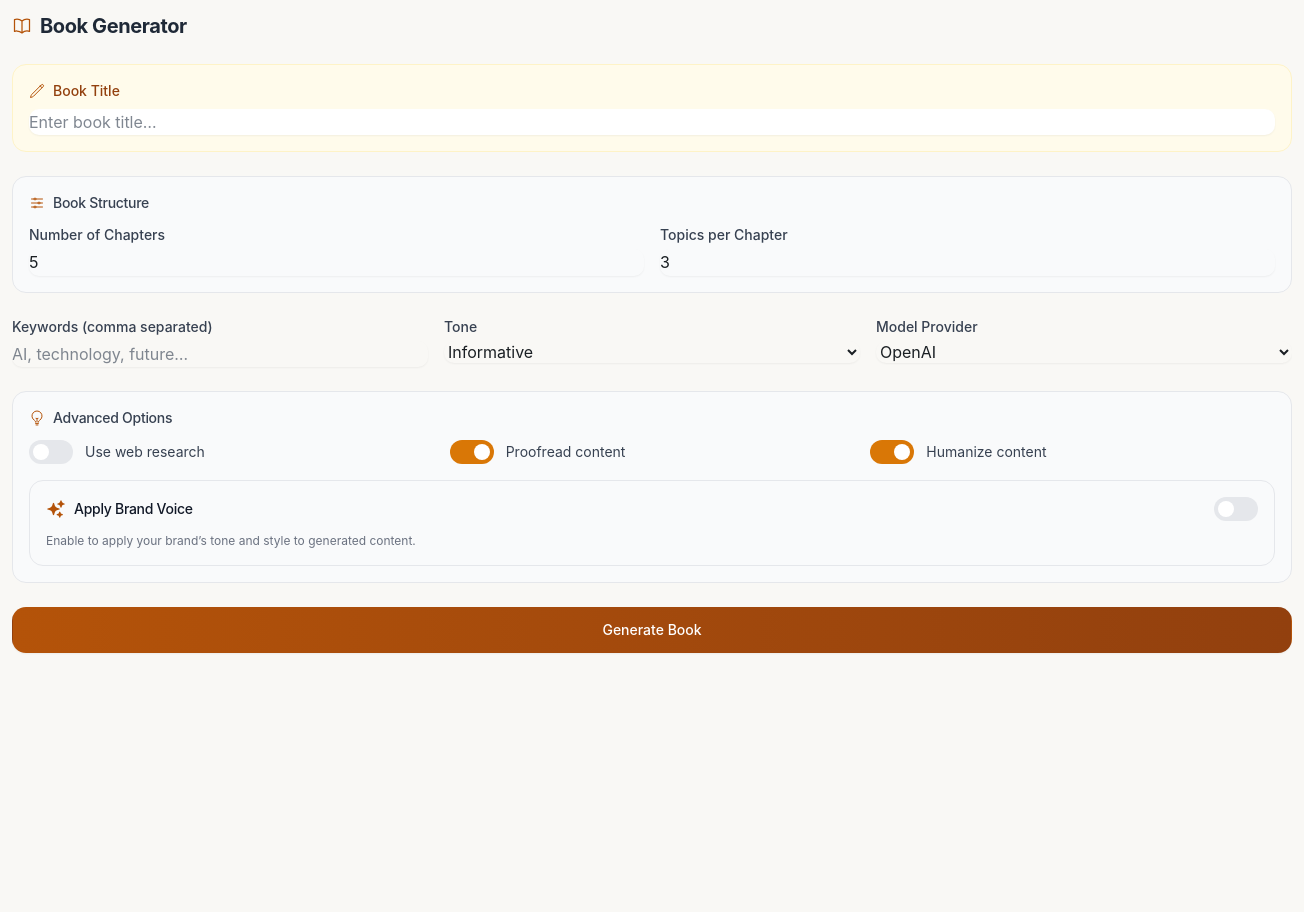
Test: BookGenerator › Error Handling › should display error and allow dismissal
Type "Test Book" into the field labelled "Book Title" at (652,122), box [29, 109, 1275, 135]
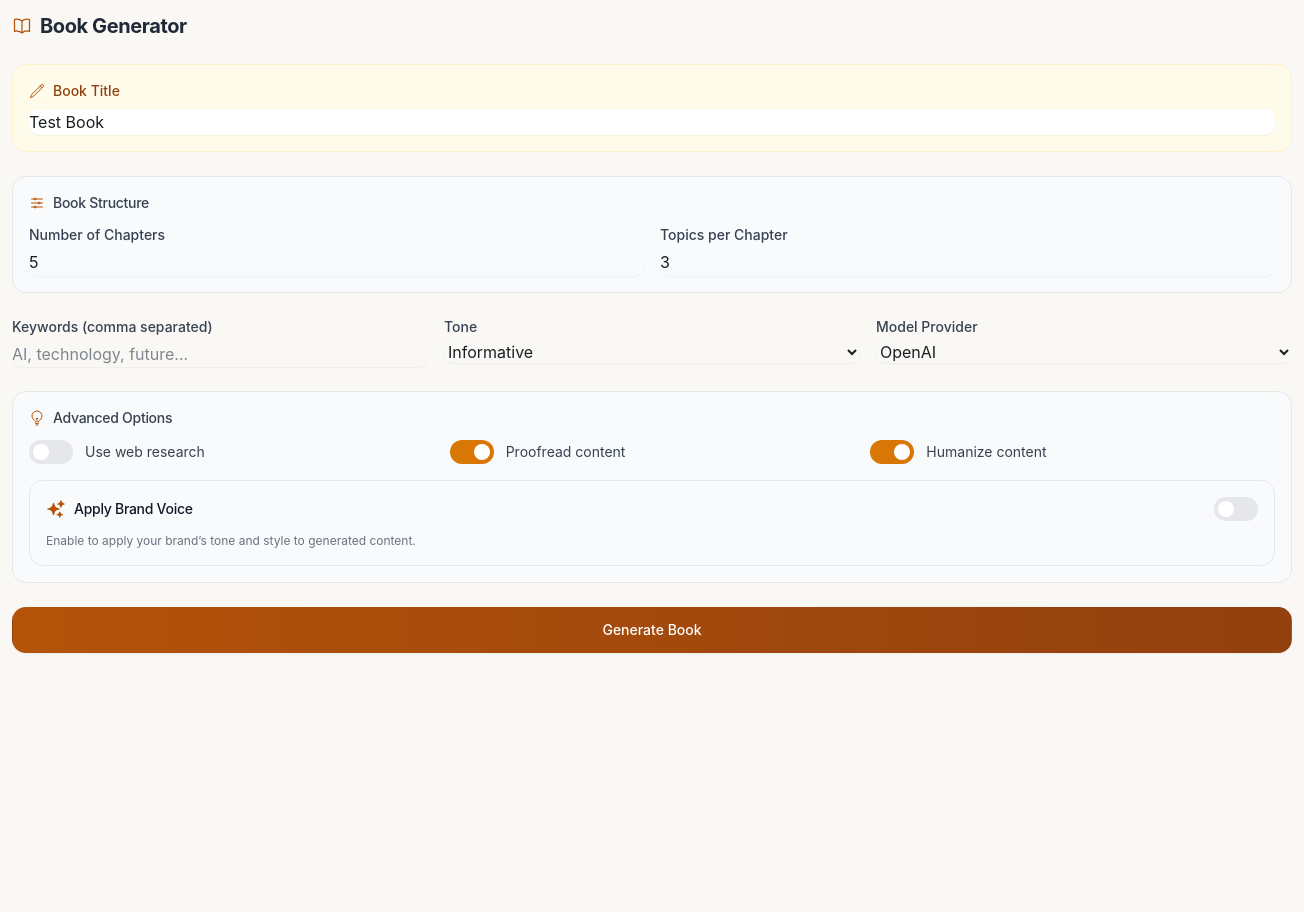
Submit the form from the button "Generate Book", box [12, 607, 1292, 653]
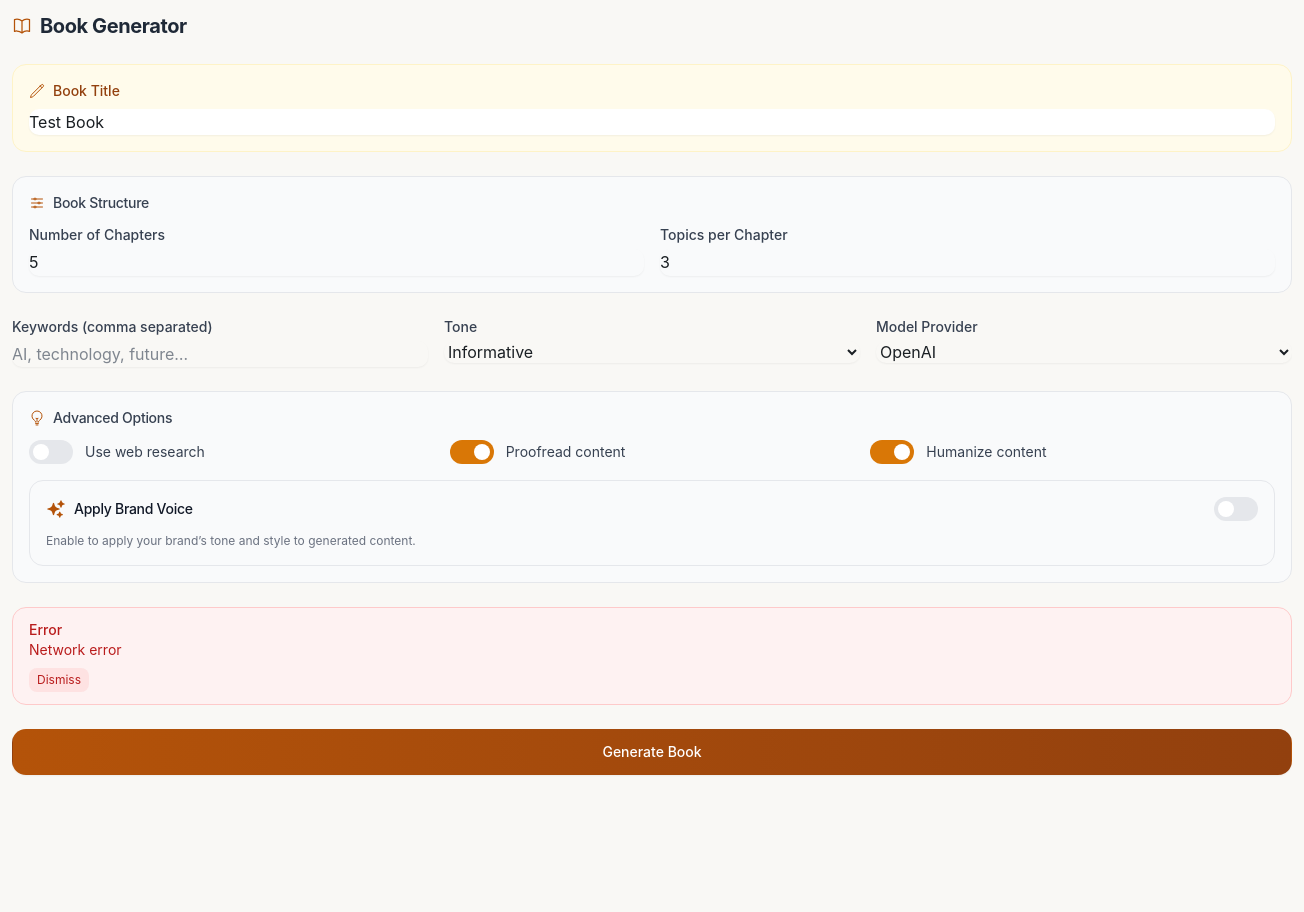
Check: the text "Network error" is shown, box [29, 641, 122, 658]
// Dismiss error
Click the button "Dismiss" at (59,680), box [29, 668, 89, 692]
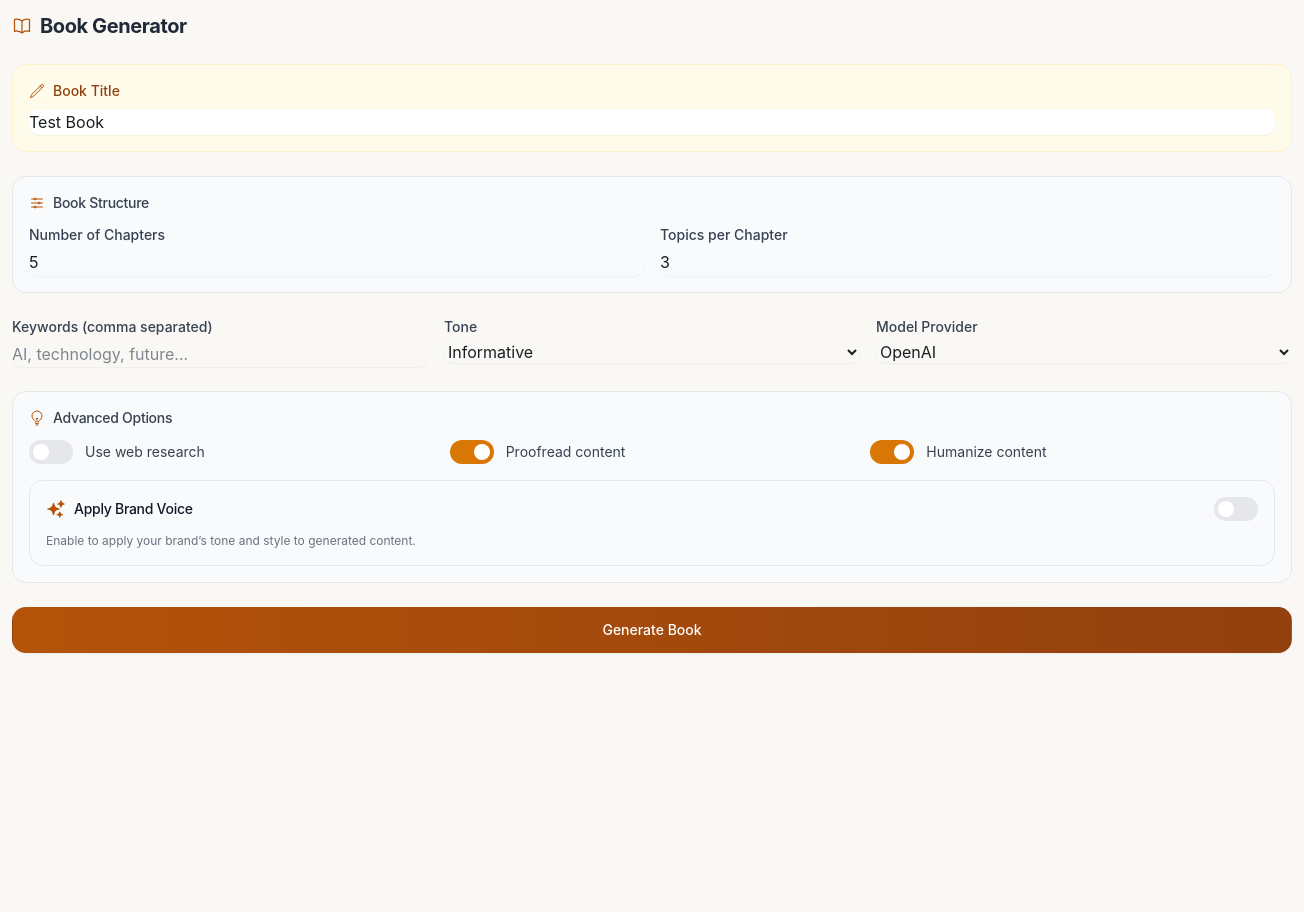
Check: the text "Network error" is gone
